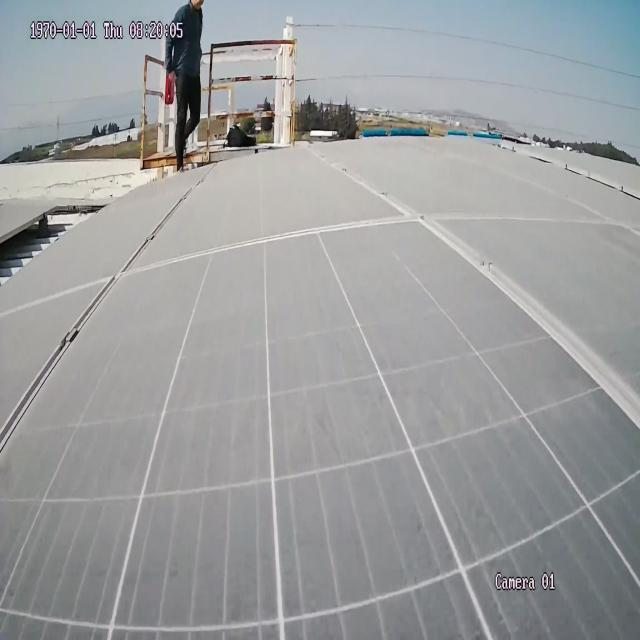interior panel: (120, 146, 640, 447), (0, 157, 226, 472)
